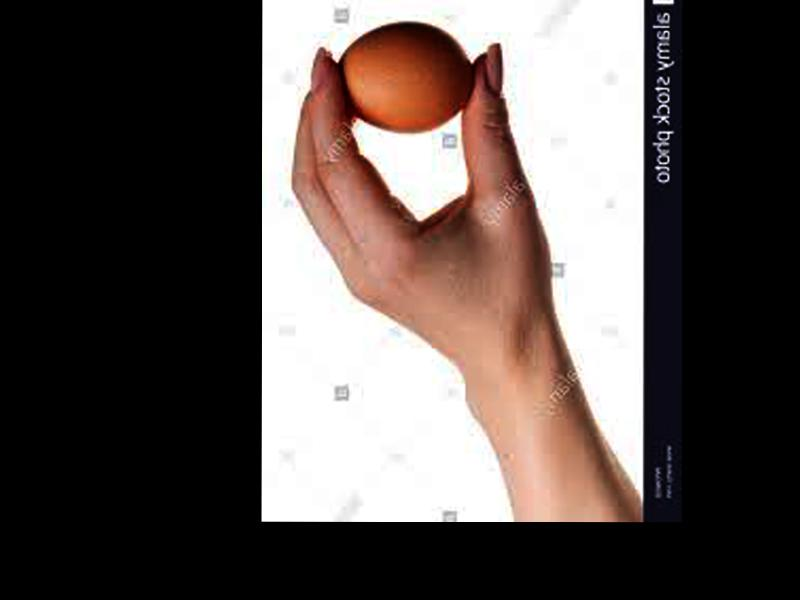Eggs: (338, 23, 470, 135)
